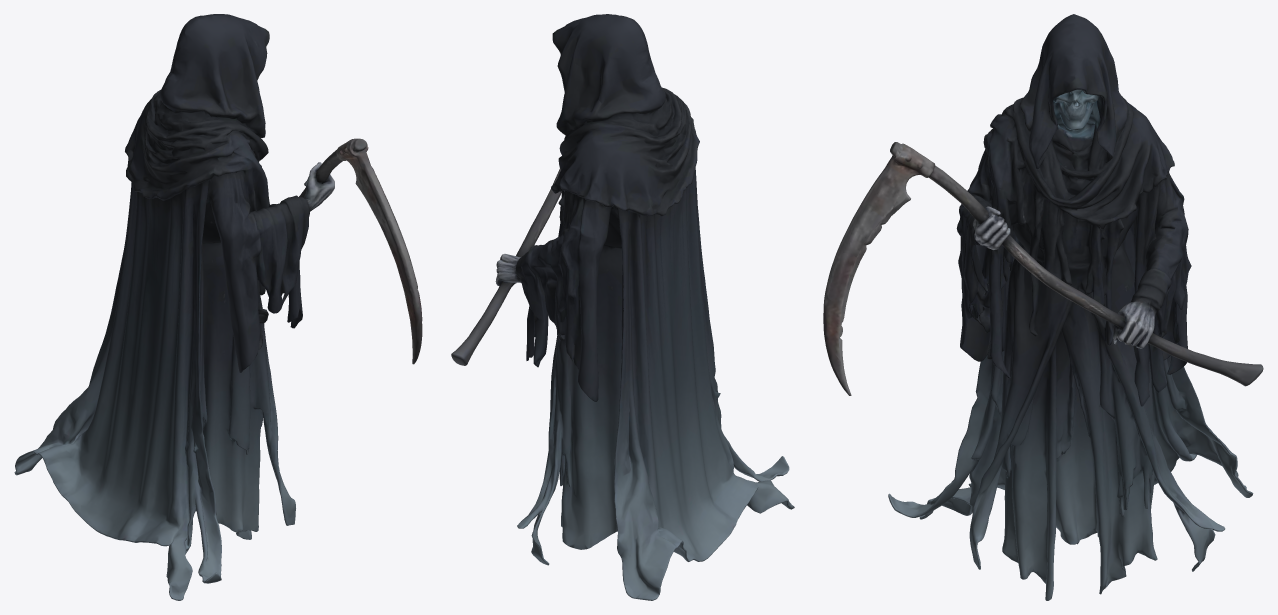
Rendered from reaper-original.glb.
3 renders of one model, left to right at view 1: azimuth 30°, elevation 25°; view 2: azimuth 150°, elevation 25°; view 3: azimuth 270°, elevation 25°, orthographic. The views are drawn at different scales.
Parts seen in each view (by area): view 1: tripo_node_c889073a-63c1-4dc6-8115-f154d84fb95c; view 2: tripo_node_c889073a-63c1-4dc6-8115-f154d84fb95c; view 3: tripo_node_c889073a-63c1-4dc6-8115-f154d84fb95c.
Boxes of the visible parts, x1,y1,x2,y2 form: tripo_node_c889073a-63c1-4dc6-8115-f154d84fb95c: (14, 14, 422, 600); tripo_node_c889073a-63c1-4dc6-8115-f154d84fb95c: (451, 14, 794, 600); tripo_node_c889073a-63c1-4dc6-8115-f154d84fb95c: (823, 14, 1263, 600).
Size of the model in its own units: 0.4448 by 1 by 0.7049.
1 material, 1 textured.
